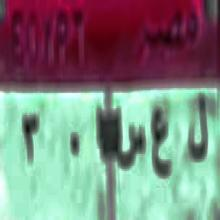0: (65, 114, 89, 176)
3: (13, 105, 43, 168)
ain: (148, 107, 174, 184)
laam: (185, 89, 209, 168)
seen: (116, 120, 146, 180)
